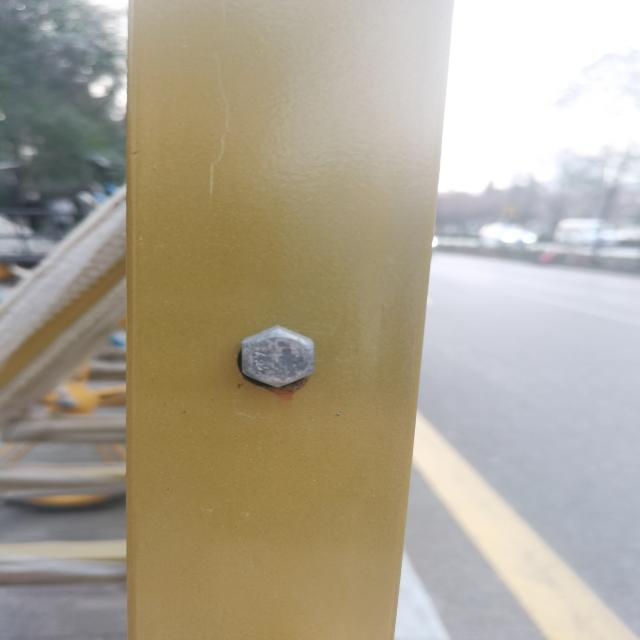bolt head: (237, 323, 317, 389)
